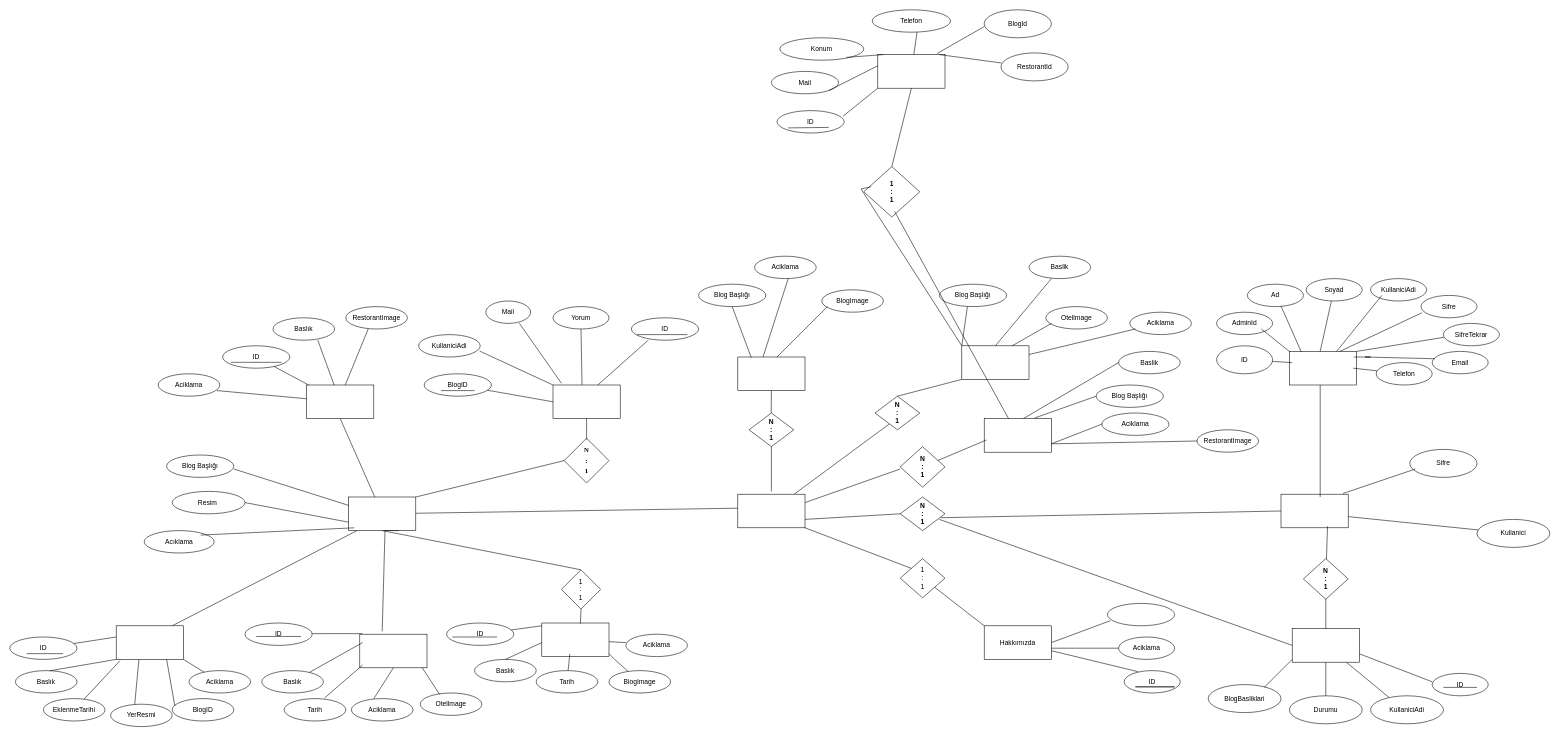
This 1560x736 diagram has some shape labels left out. Here are the shapes that lost their labels. From the top down, the box of each, then its label:
(877, 54, 945, 88): İletişim
(737, 356, 805, 391): Bloglar
(961, 345, 1029, 379): Oteller
(1289, 351, 1357, 385): Admin Detaylari
(306, 384, 374, 419): Yeni Restorant Ekle
(552, 384, 620, 419): Yorum Ekle
(984, 418, 1051, 452): Restorantlar
(348, 496, 416, 531): Blogum
(737, 494, 805, 528): Anasayfa
(1280, 494, 1348, 528): Admin
(1107, 603, 1175, 626): FotoğrafUrl
(116, 625, 183, 659): Gidilecek Yerler
(359, 634, 427, 668): Yeni Otel Ekle
(541, 622, 609, 657): Yeni Blog Ekle
(1292, 628, 1359, 662): YAZARLAR
